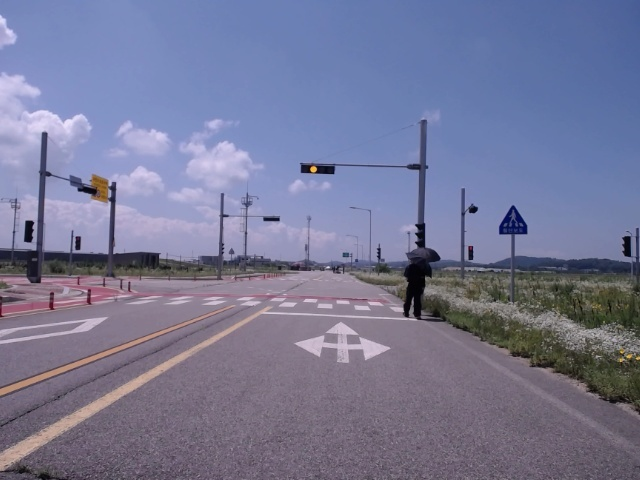orange_4: (301, 164, 335, 176)
